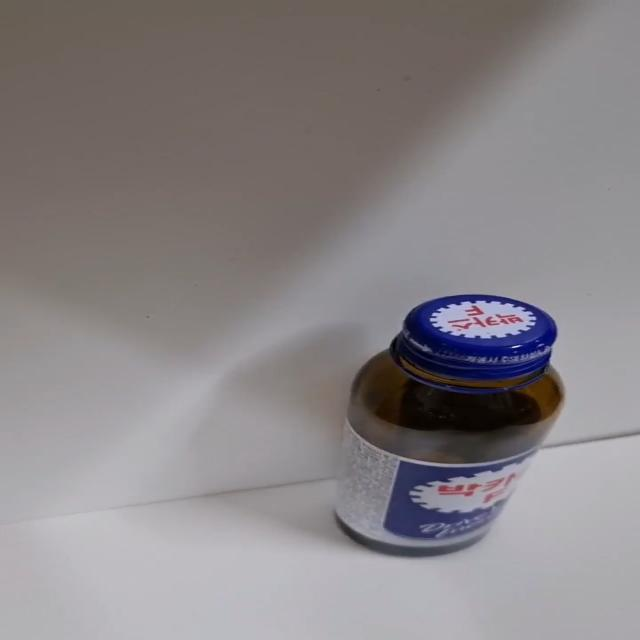Glass: (332, 294, 566, 560)
